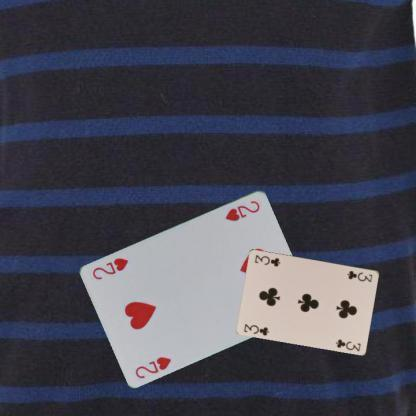2h: (132, 354, 173, 380), (223, 198, 261, 222)
3c: (242, 321, 271, 337), (345, 268, 374, 283)
